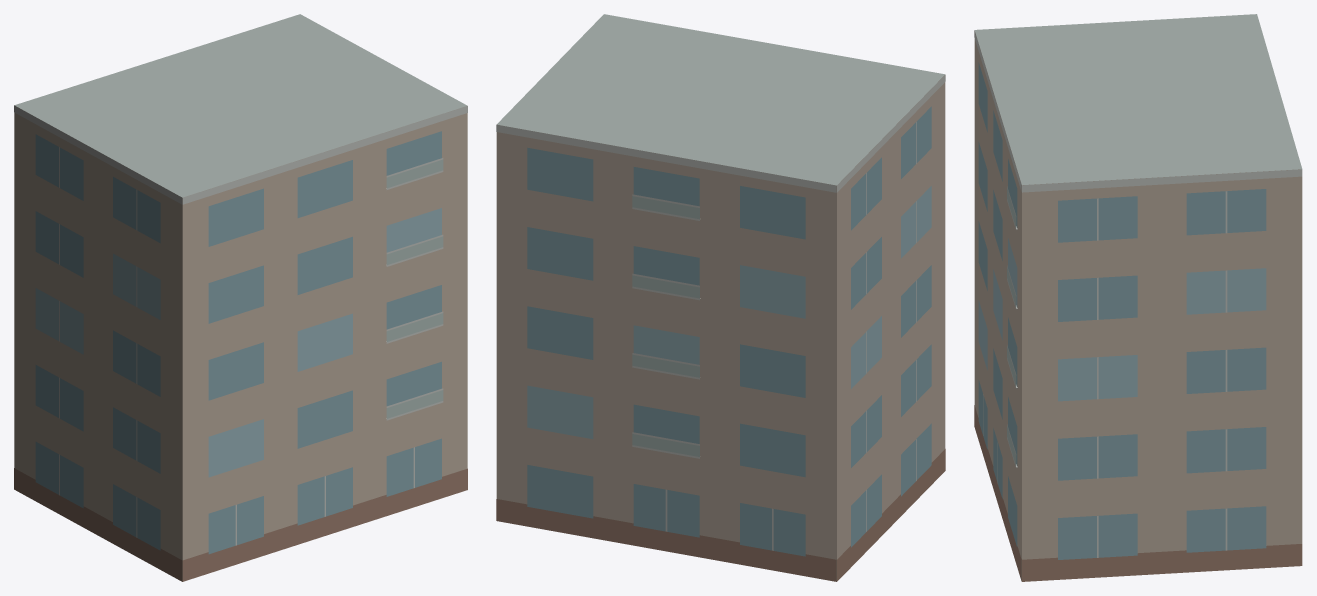
Rendered from survey-upis-32747902.glb.
The picture shows the model from 3 angles, left to right: view 1: azimuth 30°, elevation 25°; view 2: azimuth 150°, elevation 25°; view 3: azimuth 270°, elevation 25°; orthographic projection. The views are drawn at different scales.
Visible parts, largest first — view 1: survey-upis-32747902.tmp; view 2: survey-upis-32747902.tmp; view 3: survey-upis-32747902.tmp.
Boxes of the visible parts, x1,y1,x2,y2 form: survey-upis-32747902.tmp: [14, 14, 467, 581]; survey-upis-32747902.tmp: [496, 14, 945, 581]; survey-upis-32747902.tmp: [974, 14, 1302, 581].
Bounding box in the file's own units: 12.13 × 13.1 × 9.82.
